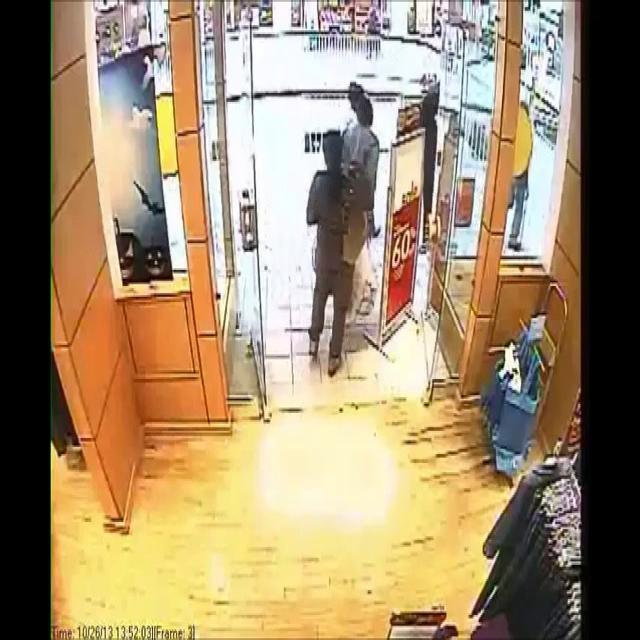normal: (287, 142, 362, 428), (378, 71, 412, 174), (333, 91, 370, 174), (302, 64, 334, 143)
